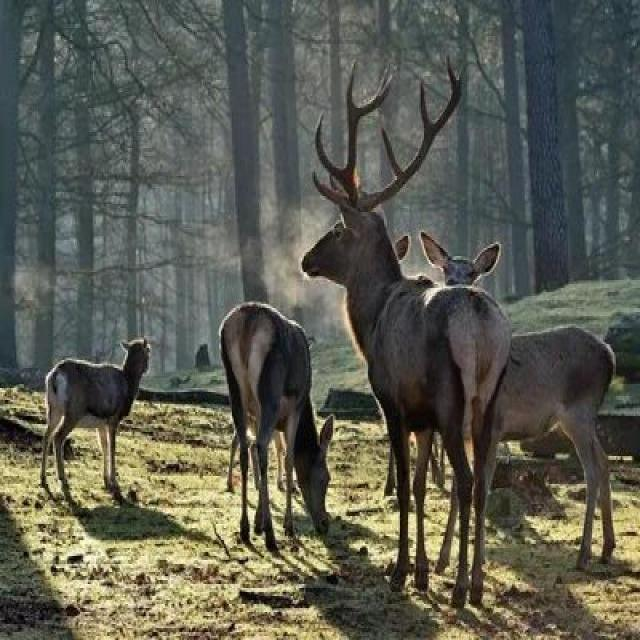deer: (290, 160, 532, 488), (8, 283, 200, 482), (205, 260, 326, 460)
